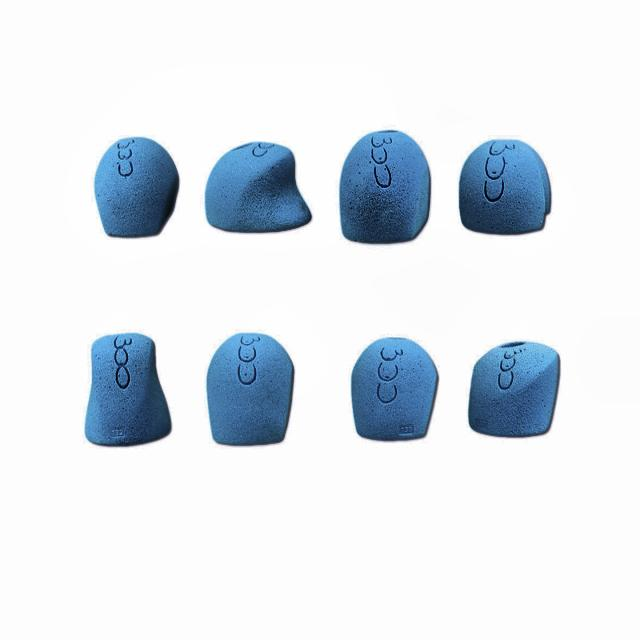Hold: (342, 116, 432, 250), (208, 327, 299, 446), (90, 128, 182, 240), (82, 336, 174, 448), (346, 335, 438, 446), (209, 134, 306, 238), (468, 330, 557, 440), (458, 136, 554, 237)
